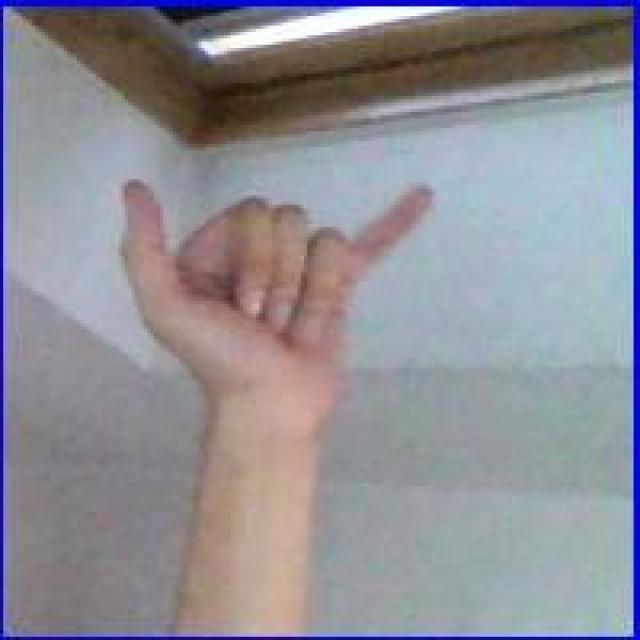Y: (110, 170, 440, 416)
